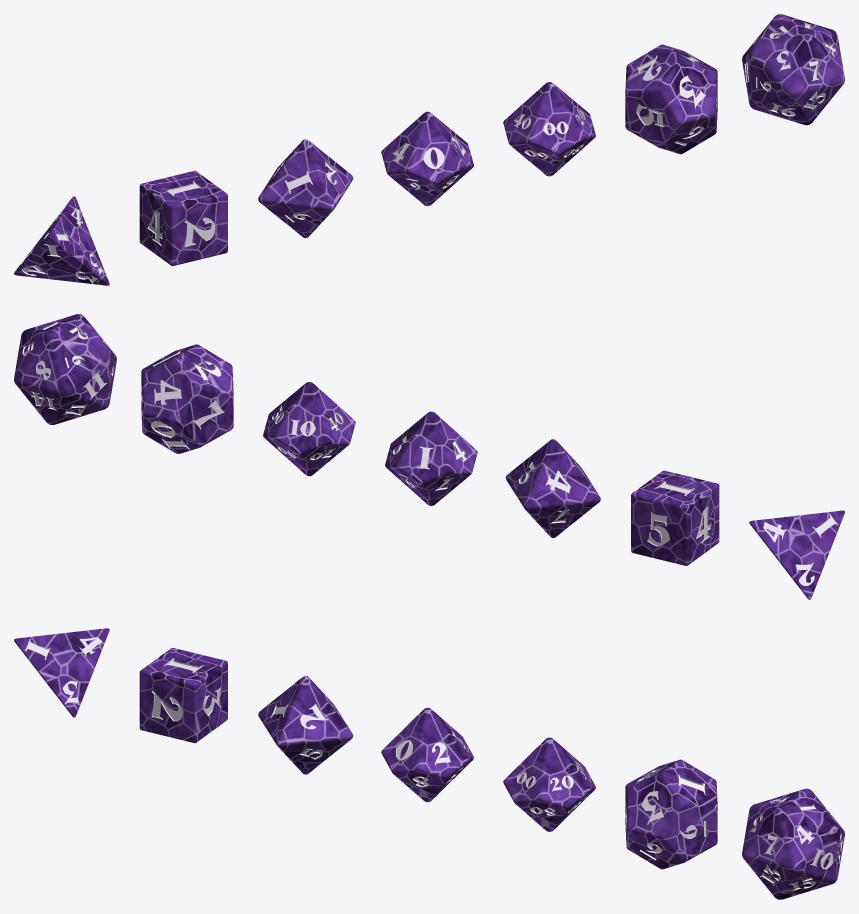
File: amethyst.glb
3 views of the same model, one above another, from view 1: azimuth 30°, elevation 25°; view 2: azimuth 150°, elevation 25°; view 3: azimuth 330°, elevation 25° (orthographic).
Parts seen in each view (by area): view 1: d20, d12, d6, d100, d10, d8, d4; view 2: d20, d12, d6, d100, d10, d8, d4; view 3: d20, d12, d6, d8, d100, d10, d4.
Boxes of the visible parts, <box> form: d20: <box>742,14,844,125</box>; d12: <box>625,44,717,154</box>; d6: <box>139,170,227,266</box>; d100: <box>503,82,595,176</box>; d10: <box>381,111,473,206</box>; d8: <box>258,139,353,238</box>; d4: <box>14,196,109,285</box>; d20: <box>14,314,116,424</box>; d12: <box>141,344,233,453</box>; d6: <box>631,470,719,565</box>; d100: <box>263,382,355,476</box>; d10: <box>385,411,477,505</box>; d8: <box>505,439,600,537</box>; d4: <box>749,510,844,599</box>; d20: <box>742,788,844,899</box>; d12: <box>625,759,717,869</box>; d6: <box>139,647,227,743</box>; d8: <box>258,675,353,774</box>; d100: <box>503,737,595,831</box>; d10: <box>381,707,473,802</box>; d4: <box>14,628,109,717</box>.
Size of the model in its own units: 21.14 by 2.47 by 2.47.
14 materials, 7 textured.
